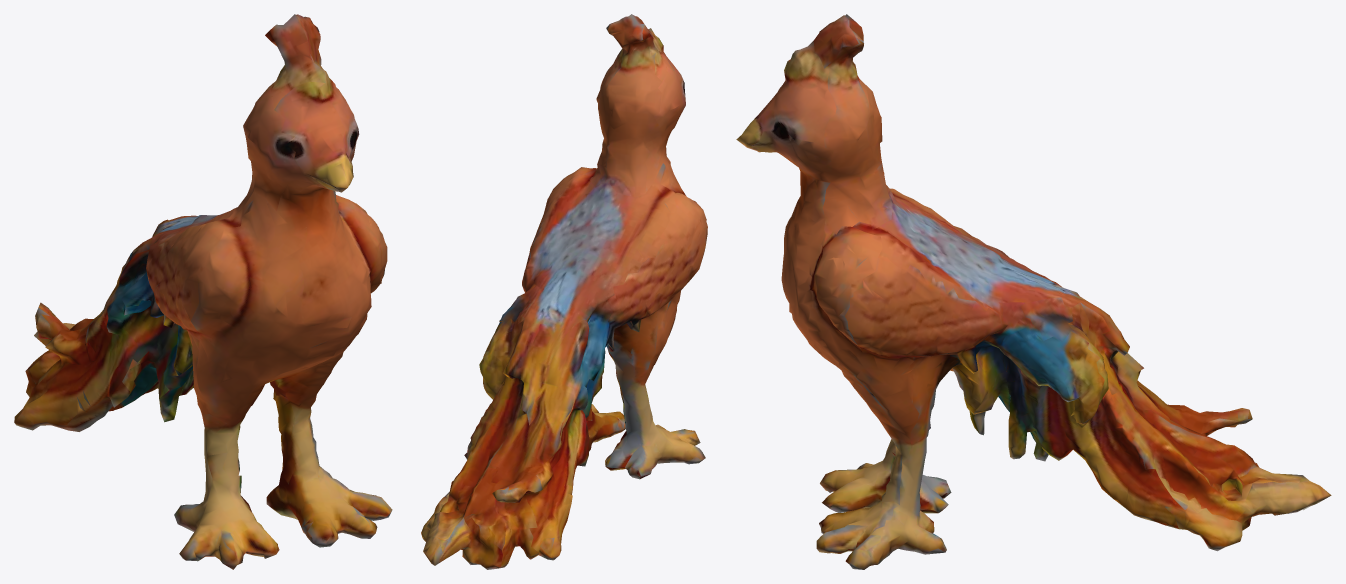
Rendered from mob_fenghuang.glb.
3 views of the same model, side by side, from view 1: azimuth 30°, elevation 25°; view 2: azimuth 150°, elevation 25°; view 3: azimuth 270°, elevation 25° (orthographic). The views are drawn at different scales.
Parts seen in each view (by area): view 1: geometry_0; view 2: geometry_0; view 3: geometry_0.
Part boxes in pixels (x1,y1,x2,y2): geometry_0: [14, 14, 392, 569]; geometry_0: [421, 14, 707, 569]; geometry_0: [736, 14, 1331, 569].
Bounding box in the file's own units: 0.5677 × 1.4 × 1.48.
1 material, 1 textured.
